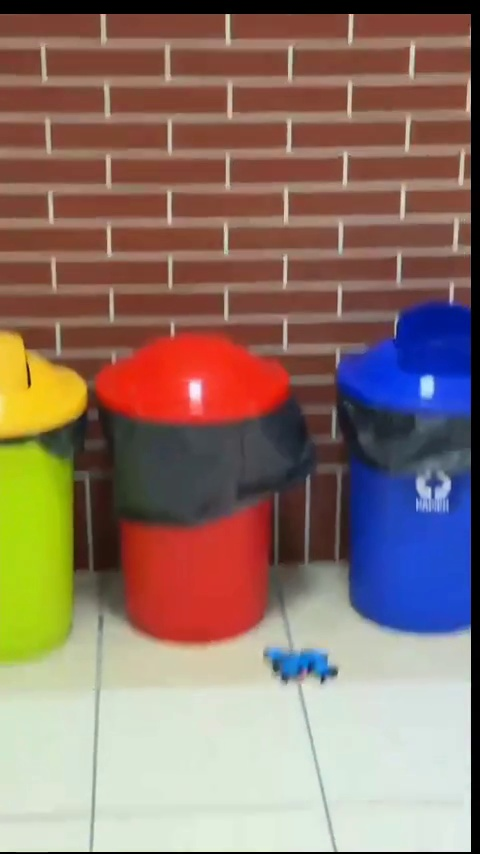drone: (265, 646, 335, 680)
